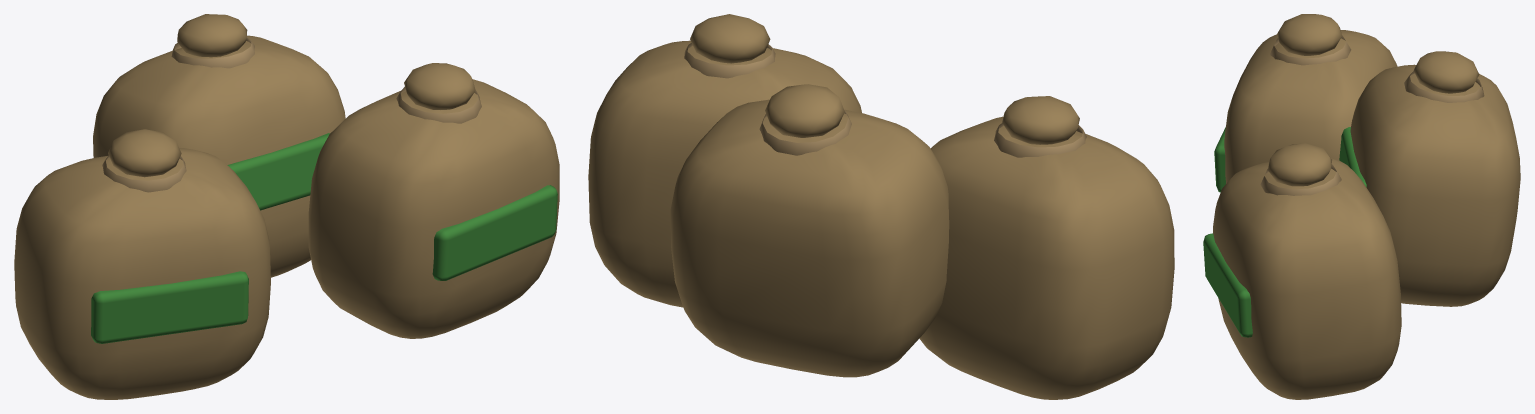
Rendered from furn_feed_sacks.glb.
The picture shows the model from 3 angles, left to right: view 1: azimuth 30°, elevation 25°; view 2: azimuth 150°, elevation 25°; view 3: azimuth 270°, elevation 25°; orthographic projection. The views are drawn at different scales.
Parts seen in each view (by area): view 1: furn_feed_sacks_main; view 2: furn_feed_sacks_main; view 3: furn_feed_sacks_main.
Boxes of the visible parts, bbox=[...] form: furn_feed_sacks_main: bbox=[14, 14, 559, 399]; furn_feed_sacks_main: bbox=[588, 14, 1174, 399]; furn_feed_sacks_main: bbox=[1203, 14, 1520, 399].
Size of the model in its own units: 1.43 by 0.7512 by 0.8404.
